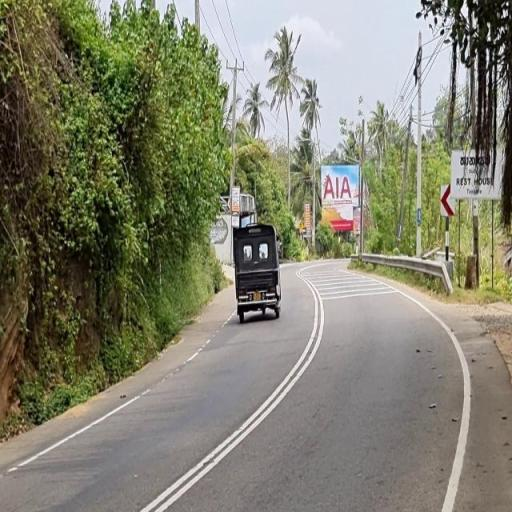double_white_line: (141, 281, 326, 512)
